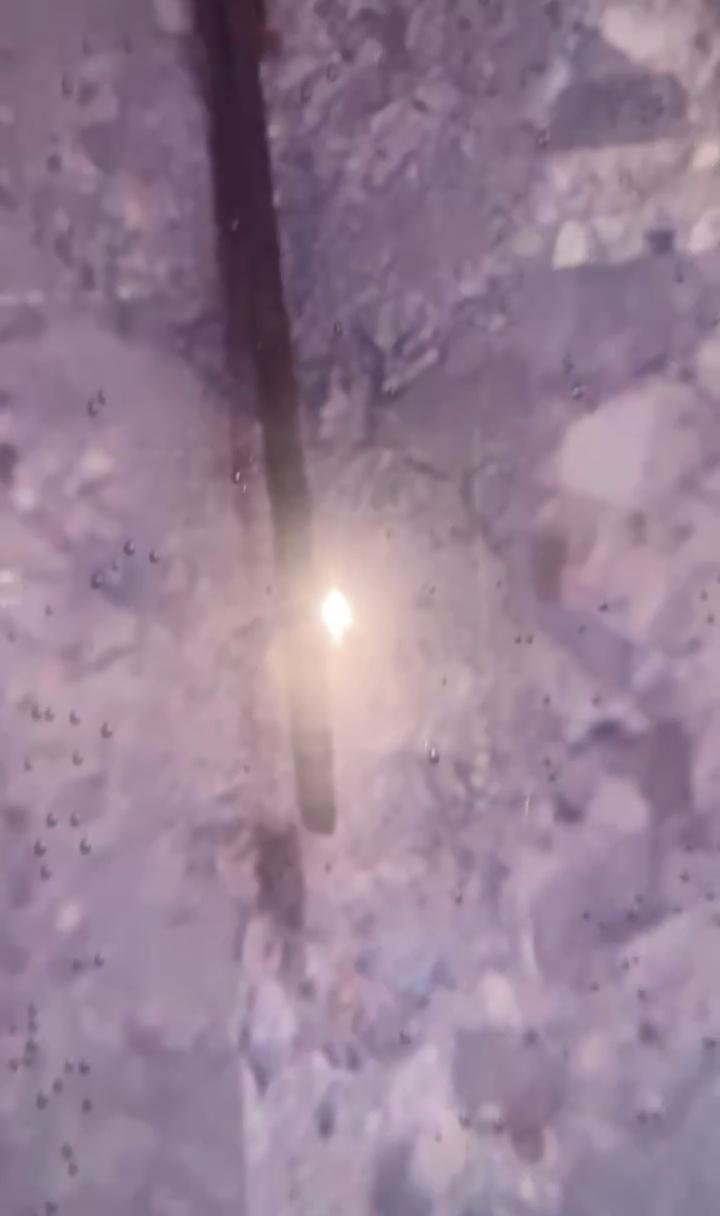Exposed reinforcement: (190, 1, 337, 836)
